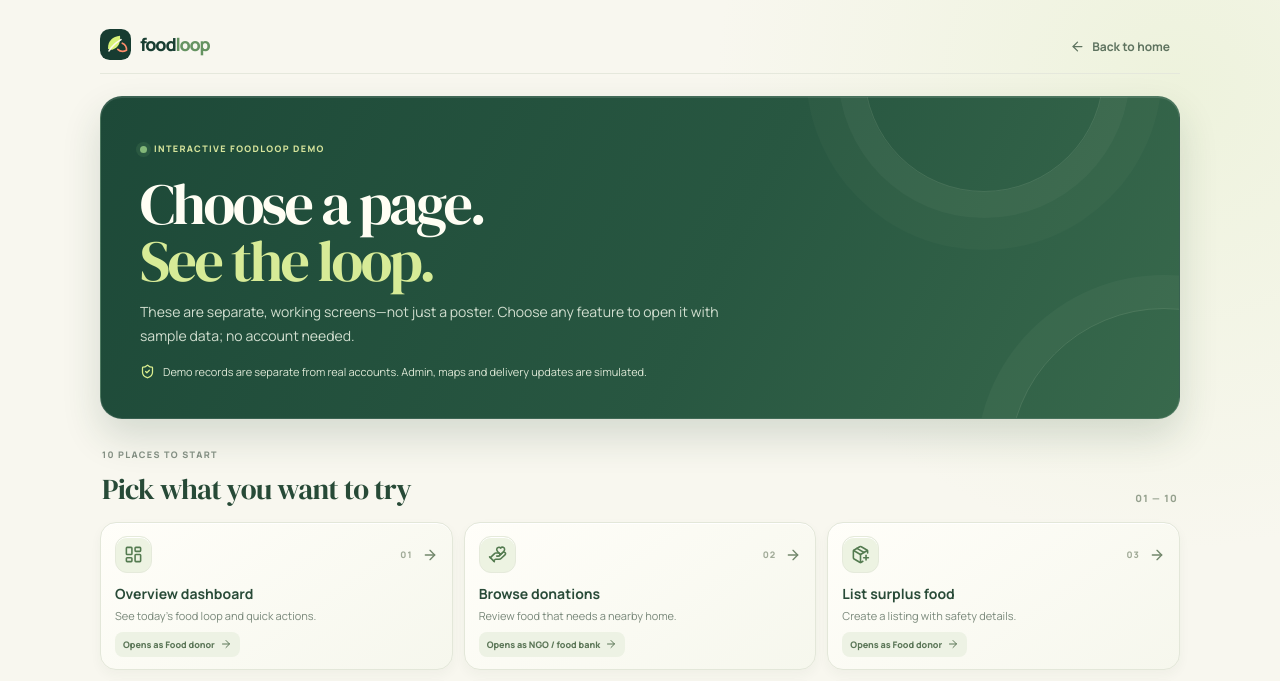
Test: FoodLoop screen selection › opens Overview dashboard with the donor demo identity
Click the button with aria-label "Open Overview dashboard as Food donor". click: (134, 555)
box: [100,522,453,670]
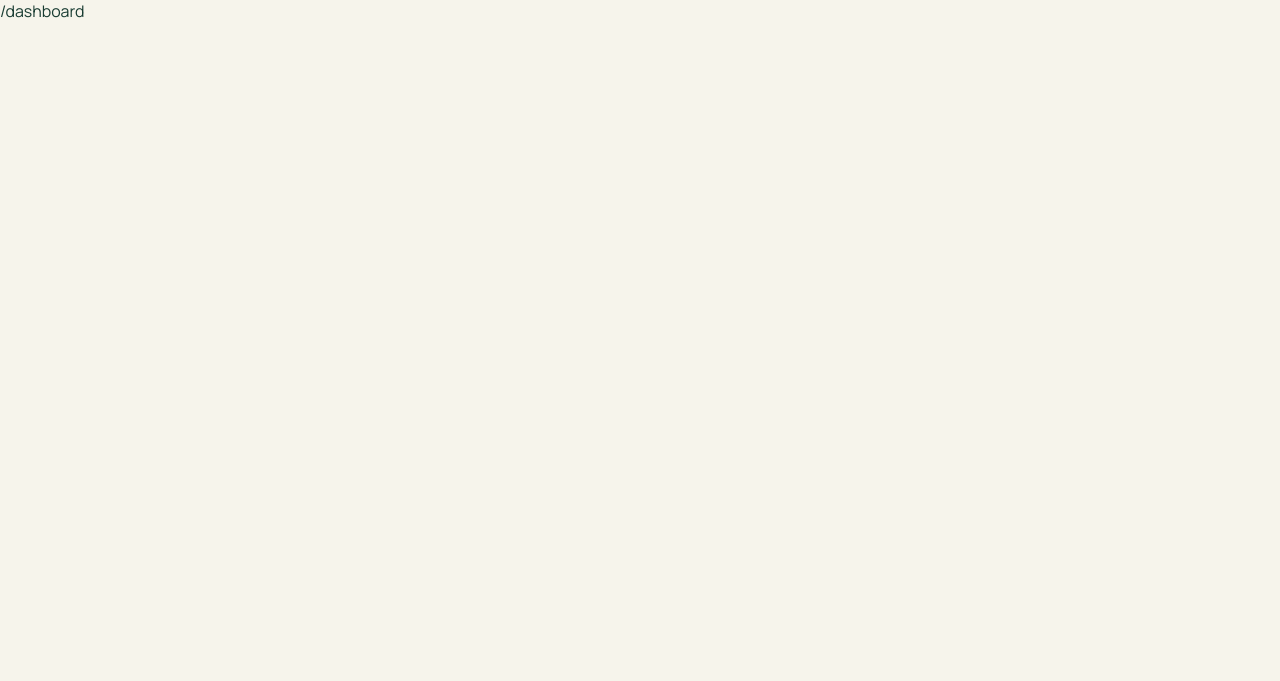
Result: the text with test id "current-route" reads "/dashboard" at [0,0,85,22]
